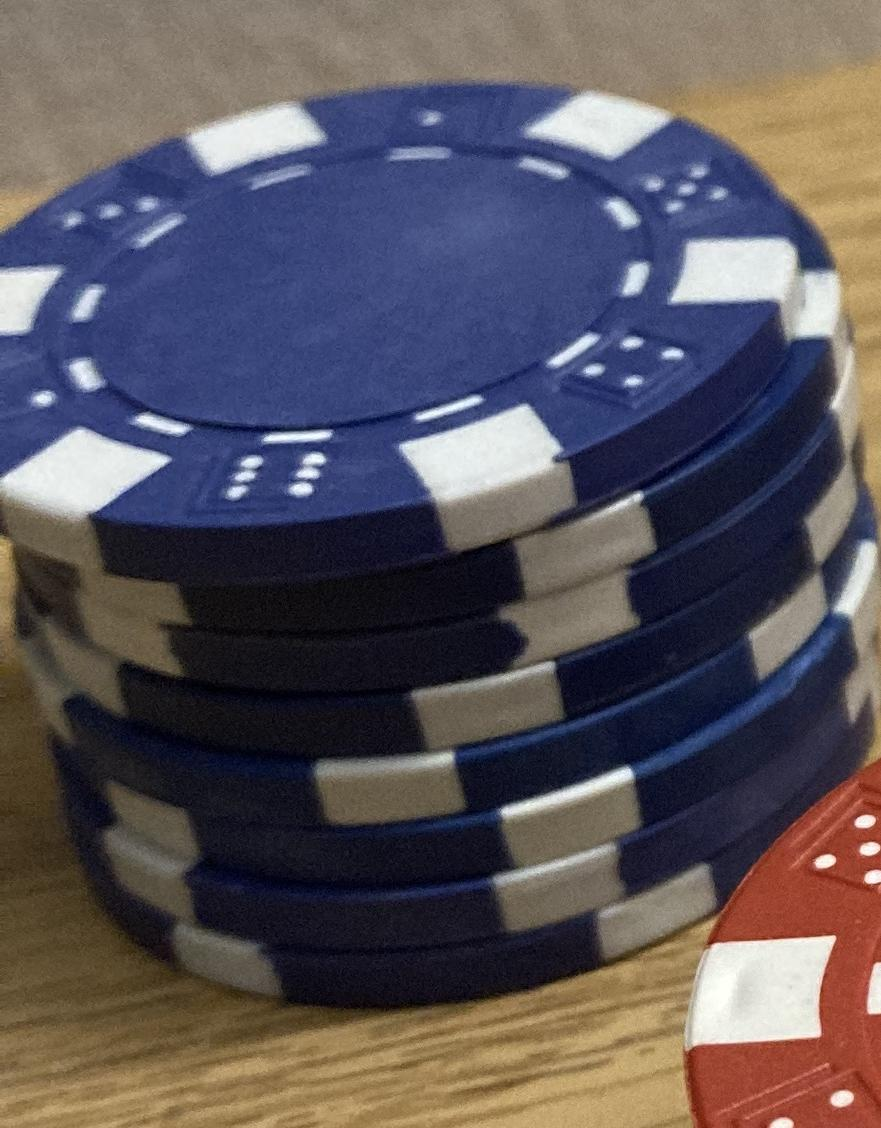Chip: (1, 1, 881, 1128)
